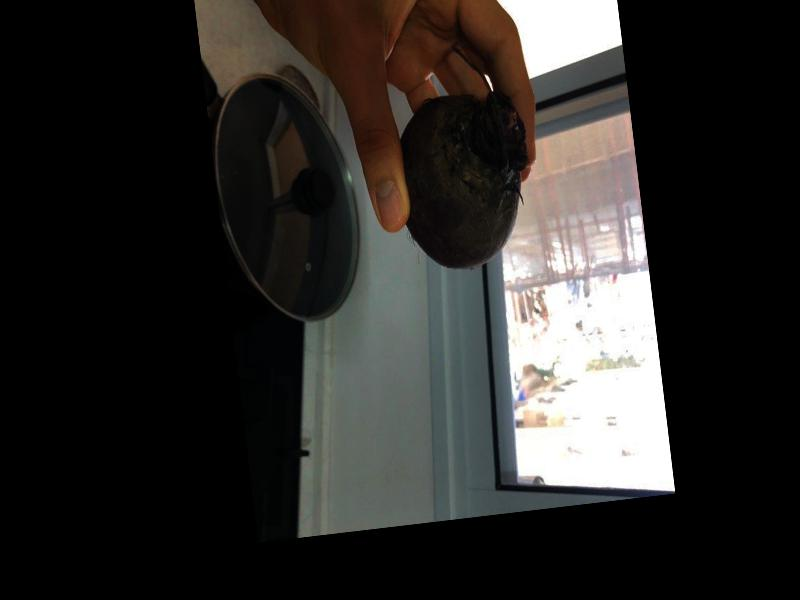Beet: (384, 36, 541, 275)
